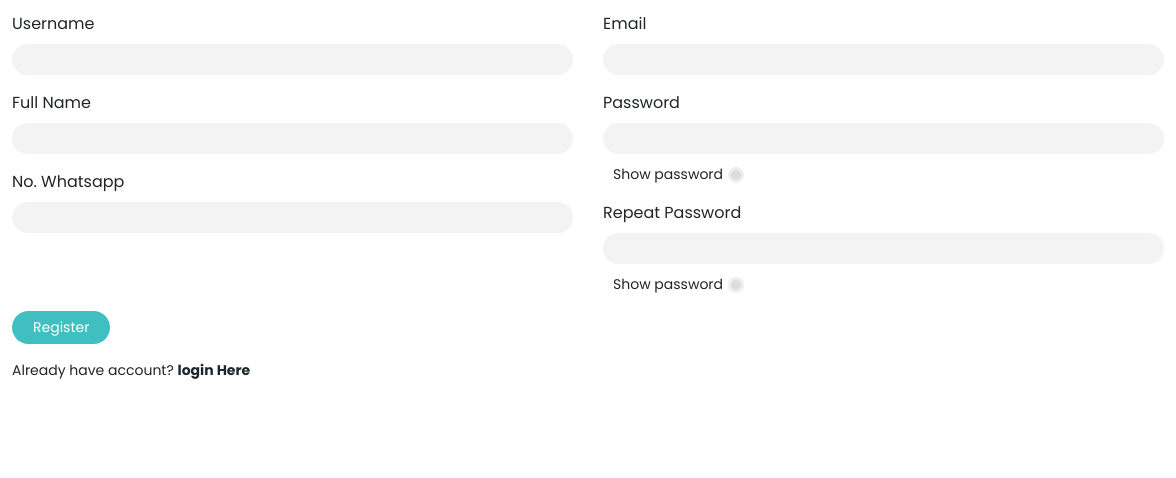
Test: Username Test › renders an error when username character is less than 1
Click the button "Register" at (61, 328), box [12,311,110,344]
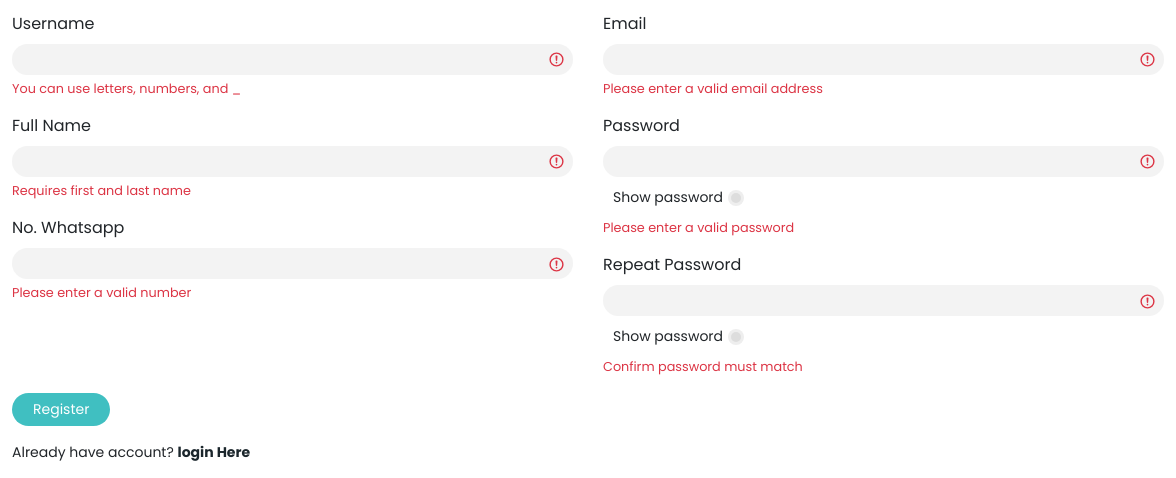
Expected: the text with class "error_username" reads "You can use letters, numbers, and _", [12,80,241,97]
